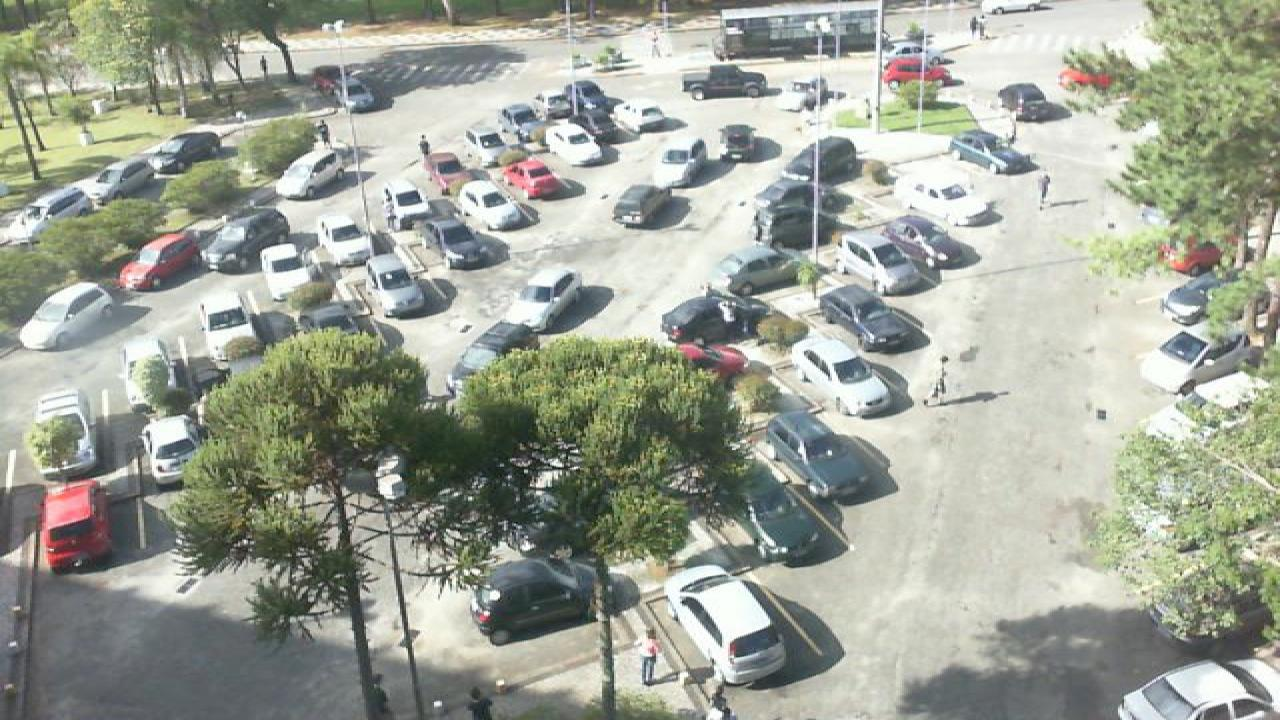Car: (672, 564, 790, 685), (468, 552, 608, 646), (754, 410, 882, 500), (738, 469, 846, 563), (1114, 659, 1280, 720), (1136, 318, 1254, 395), (792, 336, 902, 417), (810, 282, 922, 354), (660, 280, 772, 347), (36, 478, 114, 572), (18, 280, 116, 351), (452, 318, 546, 390), (26, 389, 102, 477), (494, 268, 582, 342), (836, 233, 932, 296), (894, 168, 998, 226), (720, 242, 830, 295), (866, 214, 970, 270), (116, 228, 208, 290), (128, 340, 202, 417), (204, 208, 290, 272), (194, 289, 270, 361), (364, 249, 438, 316), (140, 413, 204, 487), (782, 134, 860, 191), (752, 192, 828, 250), (260, 241, 332, 302), (1162, 271, 1238, 327), (418, 218, 498, 270), (452, 180, 528, 233), (950, 128, 1036, 174), (528, 118, 602, 168), (272, 149, 344, 199), (146, 130, 224, 174), (680, 65, 774, 100), (672, 343, 750, 383), (648, 136, 708, 187), (612, 181, 674, 227), (316, 218, 376, 264), (500, 158, 566, 199), (420, 148, 472, 196), (604, 99, 672, 135), (554, 80, 610, 121), (882, 54, 956, 83), (1000, 82, 1052, 123), (716, 121, 762, 164), (778, 78, 832, 112), (464, 122, 516, 156), (330, 78, 380, 112), (498, 100, 542, 131)
